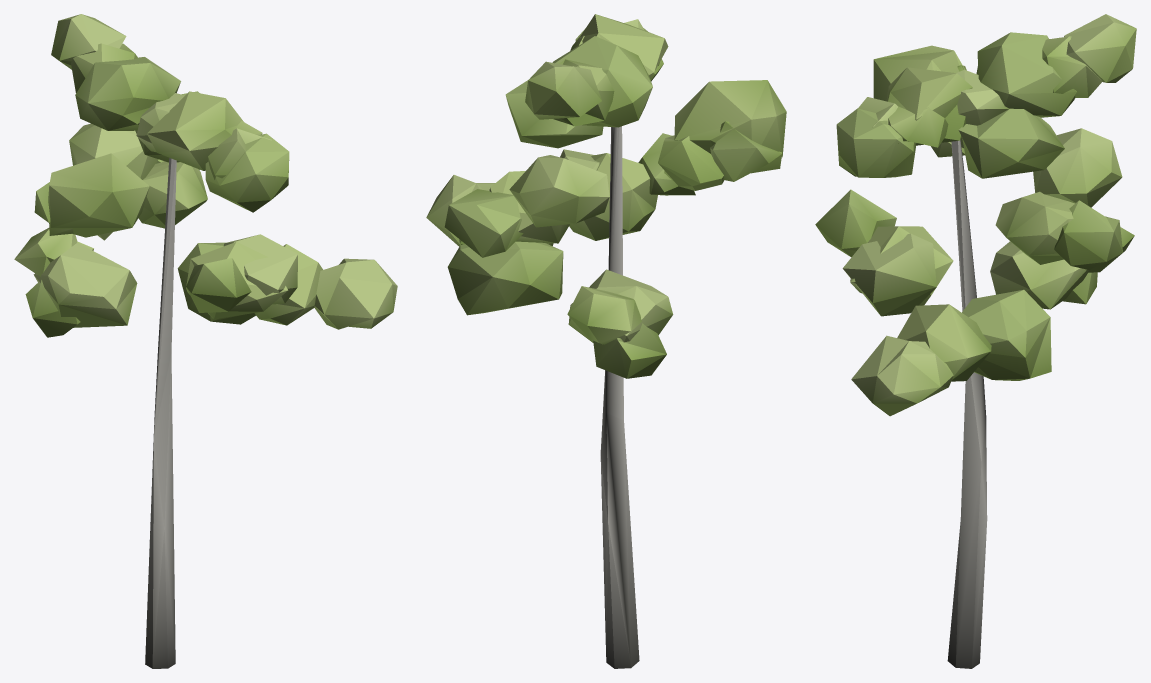
File: river_birch-lod1.glb
The picture shows the model from 3 angles, left to right: view 1: azimuth 30°, elevation 25°; view 2: azimuth 150°, elevation 25°; view 3: azimuth 270°, elevation 25°; orthographic projection. The views are drawn at different scales.
Visible parts, largest first — view 1: river_birch; view 2: river_birch; view 3: river_birch.
Boxes of the visible parts, left/top/right/bottom form: river_birch: left=14, top=14, right=397, bottom=668; river_birch: left=426, top=14, right=786, bottom=668; river_birch: left=815, top=14, right=1136, bottom=668.
Size of the model in its own units: 6.31 by 10.87 by 4.97.
